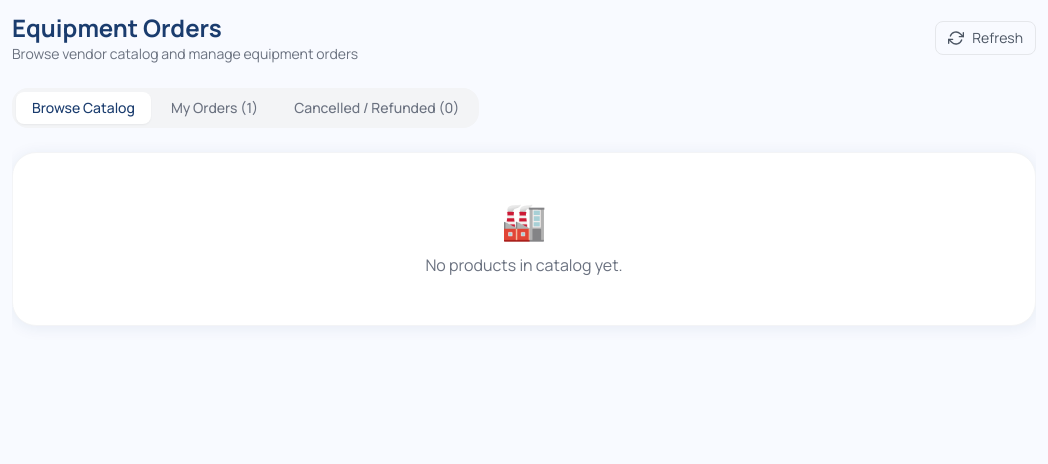
Test case: Razorpay amount limit rejection stays visible on the unpaid order card
Click the button "My Orders (1)". click: (214, 108)
box: [155,92,274,124]
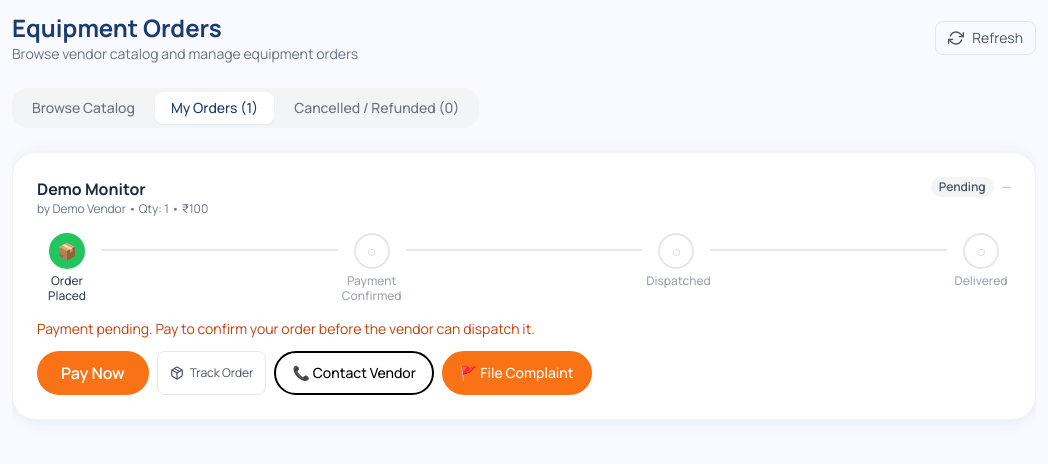
Click the button "Pay Now". click: (93, 373)
box: [37,351,149,395]
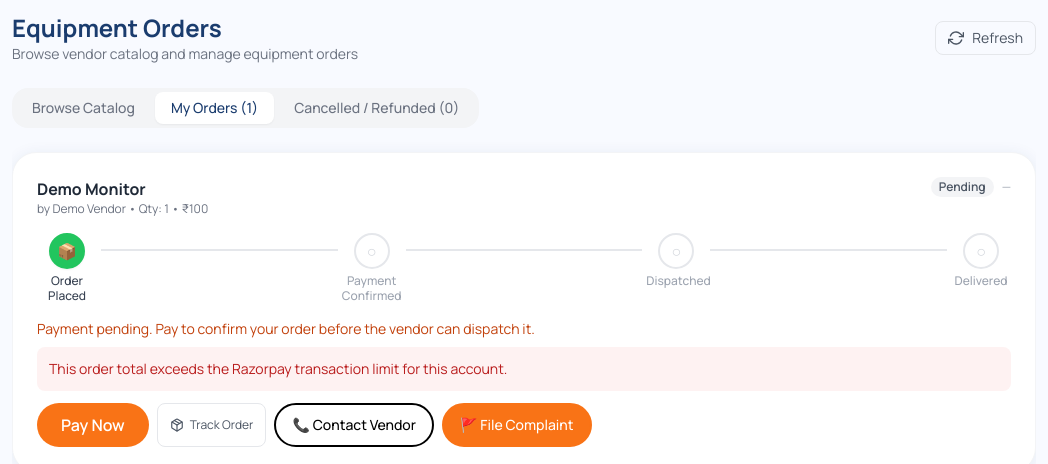
Expected: the button "Pay Now" is enabled, [37,403,149,447]
Expected: the message reads "This order total exceeds the Razorpay transaction limit for this account.", [49,359,507,378]
